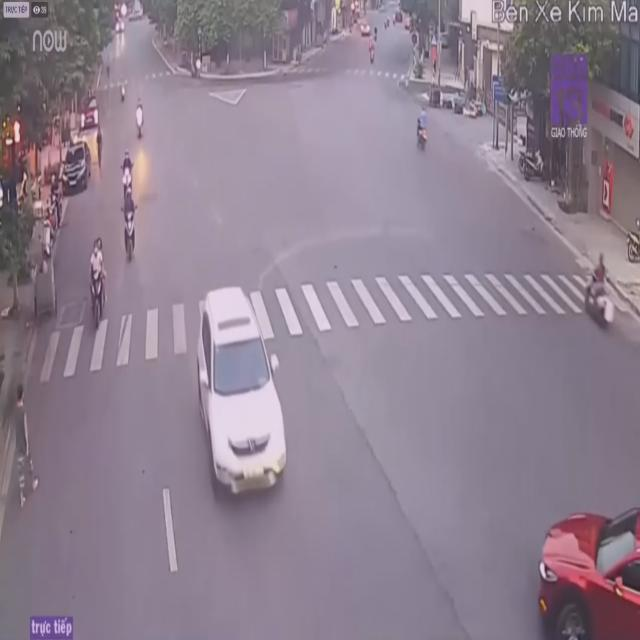car: (198, 285, 288, 505), (530, 508, 638, 640)
motorbike: (580, 256, 612, 340), (84, 238, 108, 332), (119, 191, 140, 263), (413, 99, 432, 153), (121, 149, 133, 192), (136, 95, 144, 135)
